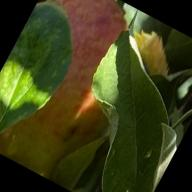Apples: (0, 0, 163, 192)
